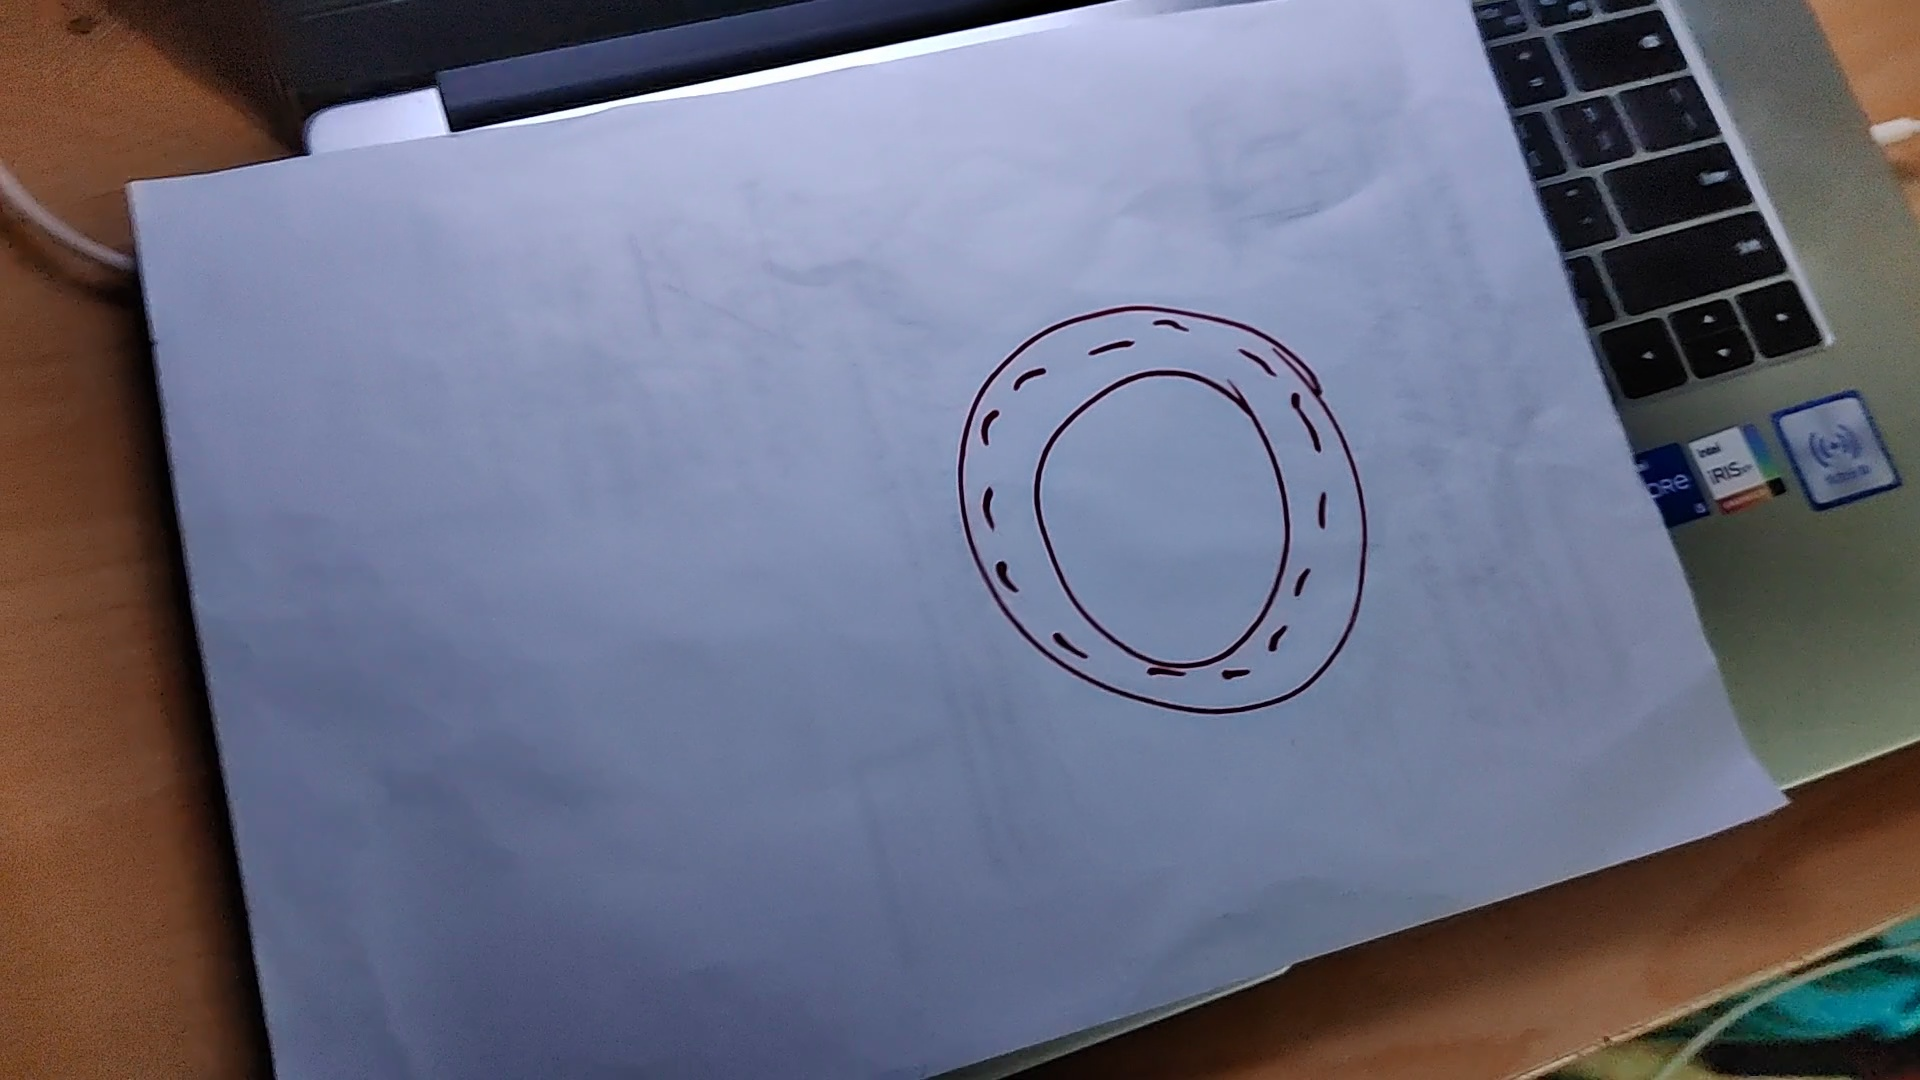circle: (957, 305, 1367, 713)
